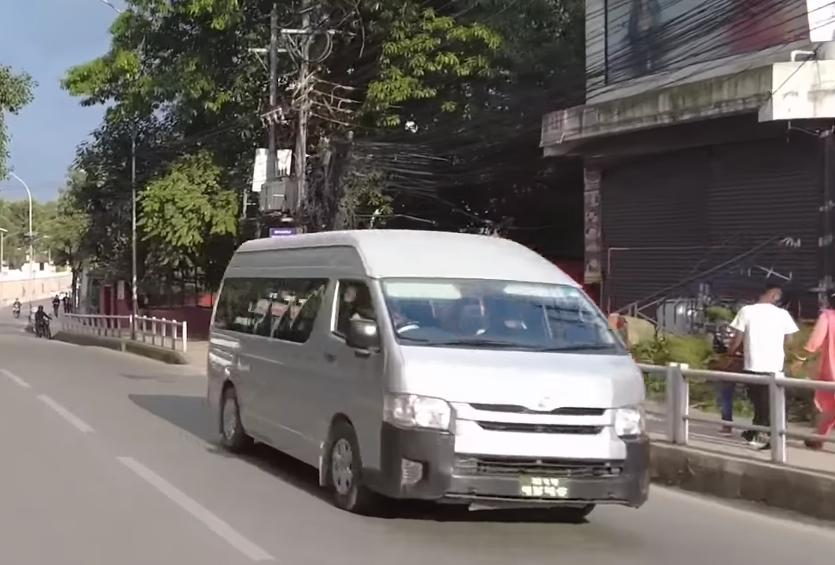bike: (32, 315, 55, 339)
micro_bus: (205, 222, 671, 523)
